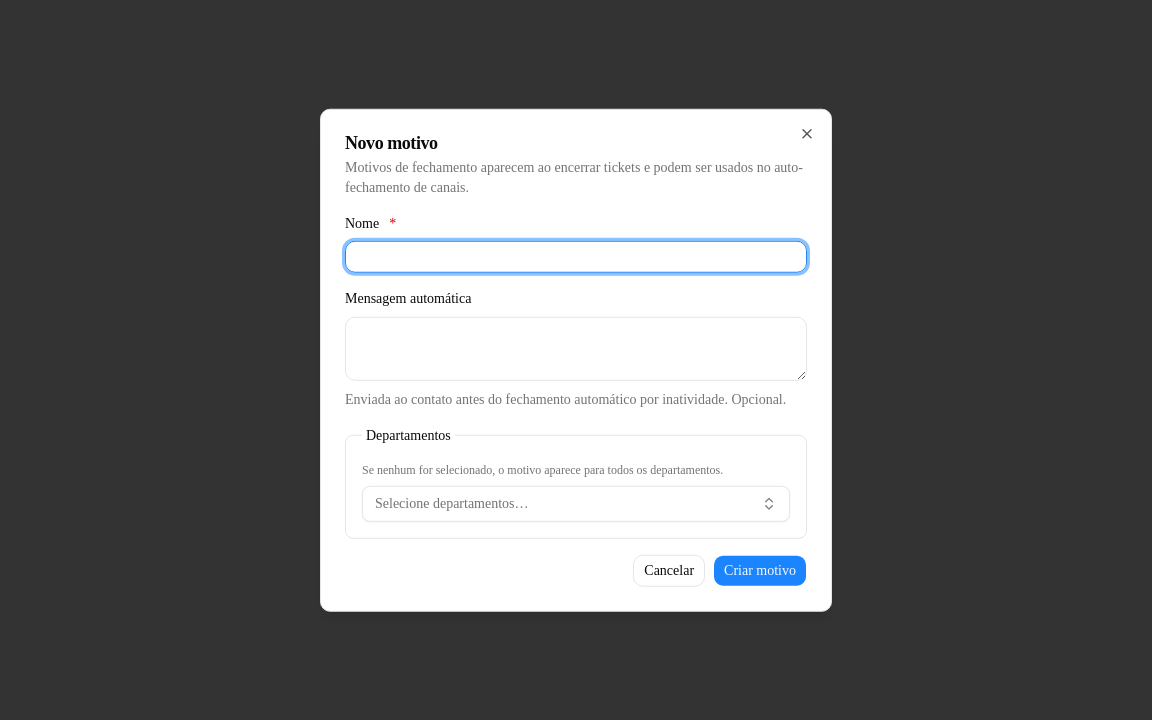
Test: CloseReasonDialog › 409 (nome duplicado) mapeia pra erro inline no campo name
Type "Atendido" into the field labelled "Nome *" at (576, 257), box [345,241,807,273]
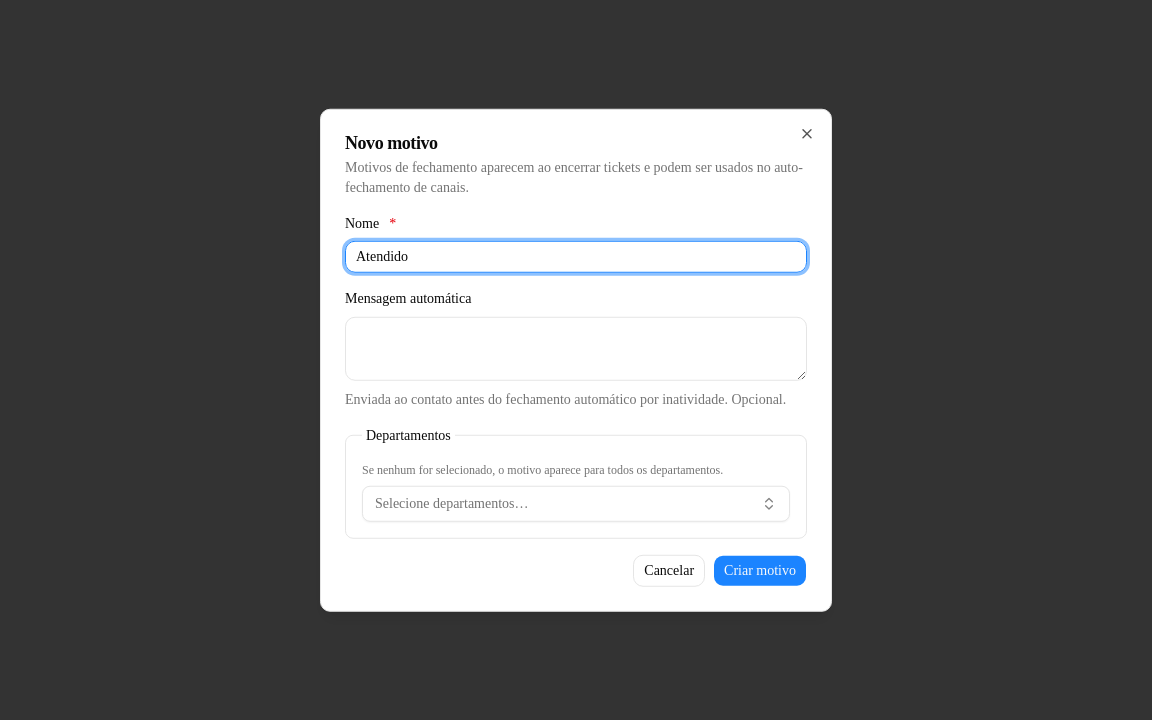
Click the button "Criar motivo" at (760, 570), box [713,554,807,586]
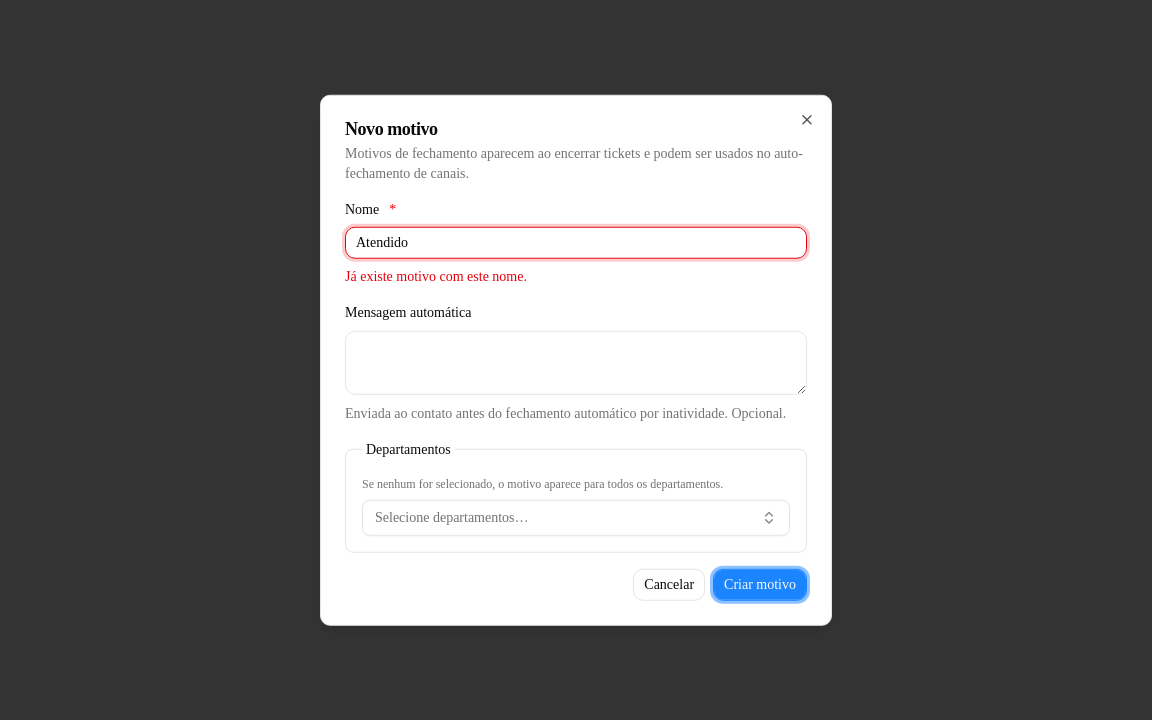
Now the text "Já existe motivo com este nome." is shown, box [345,269,527,284]
